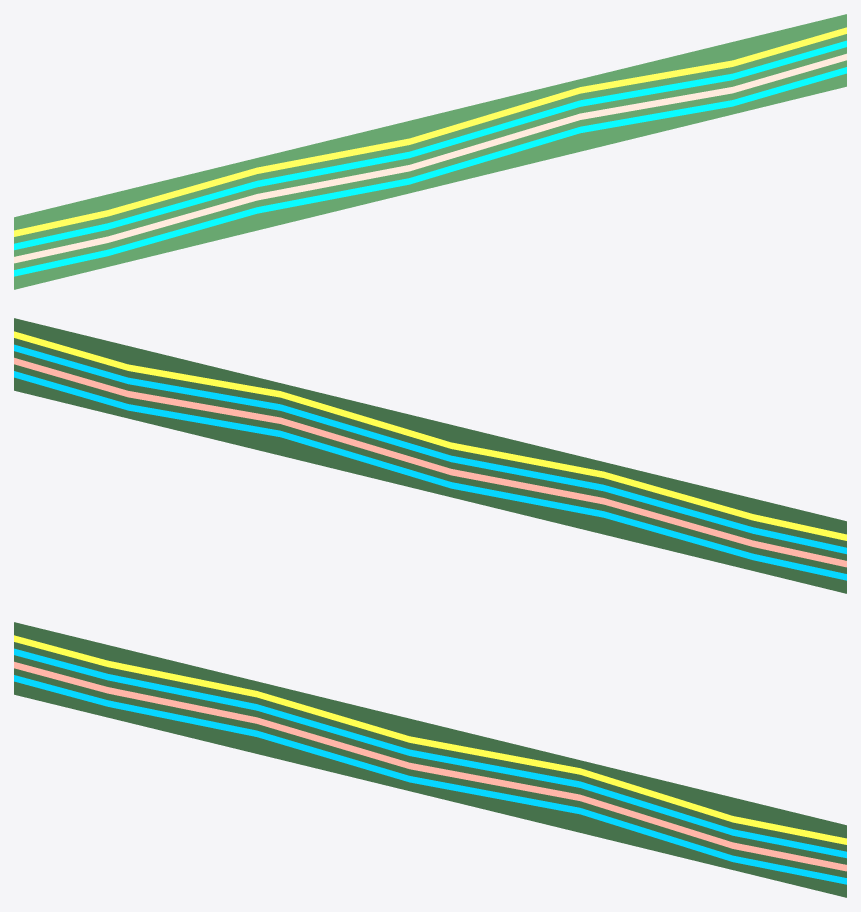
Rendered from bowling_wall.fbx.
The picture shows the model from 3 angles, top to bottom: view 1: azimuth 30°, elevation 25°; view 2: azimuth 150°, elevation 25°; view 3: azimuth 330°, elevation 25°; orthographic projection.
Visible parts, largest first — view 1: bowling_wall; view 2: bowling_wall; view 3: bowling_wall.
Boxes of the visible parts, x1,y1,x2,y2 form: bowling_wall: (14,14,846,289); bowling_wall: (14,318,846,593); bowling_wall: (14,622,846,897).
Size of the model in its own units: 3000 by 250 by 1.09e-05.
